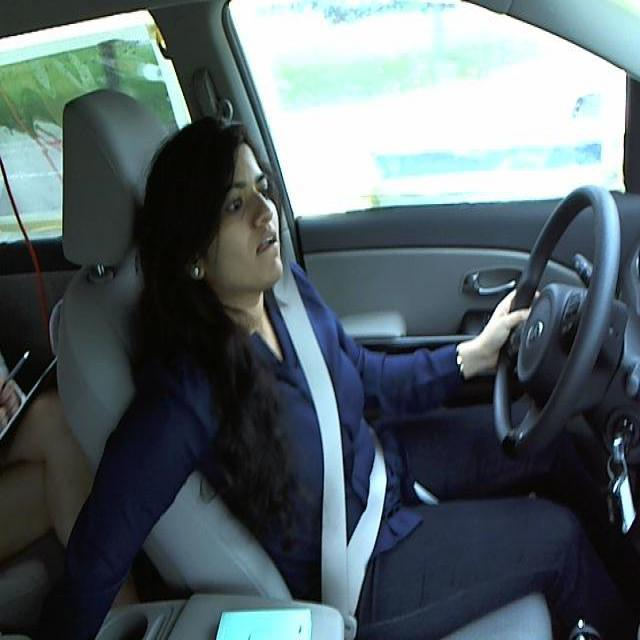seatbelt: (279, 300, 399, 585)
